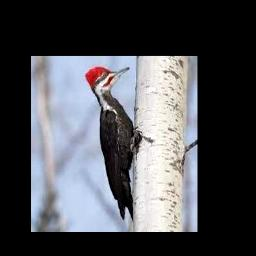Woodpecker: (85, 67, 140, 222)
